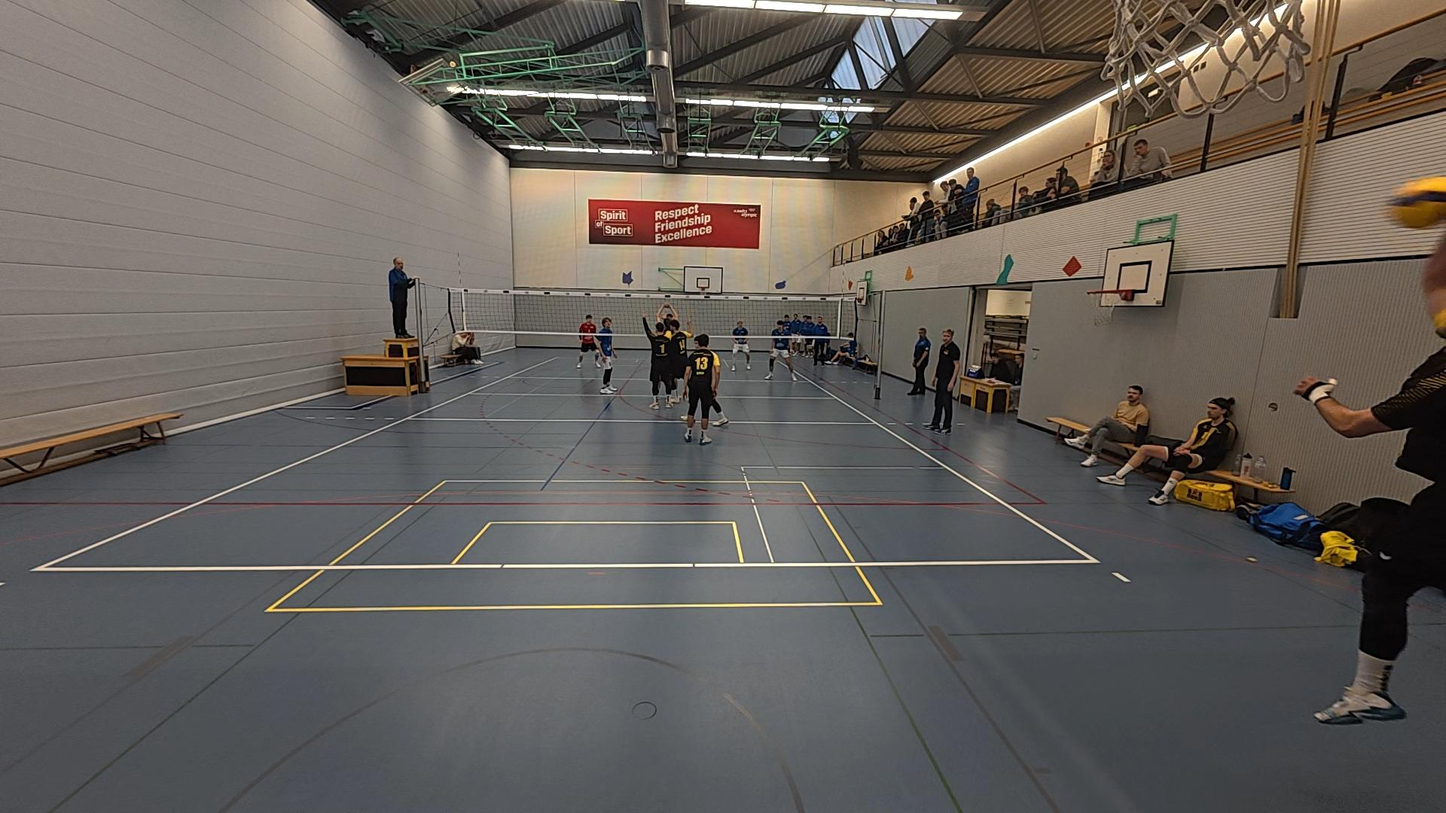battuta: (1298, 228, 1446, 726)
